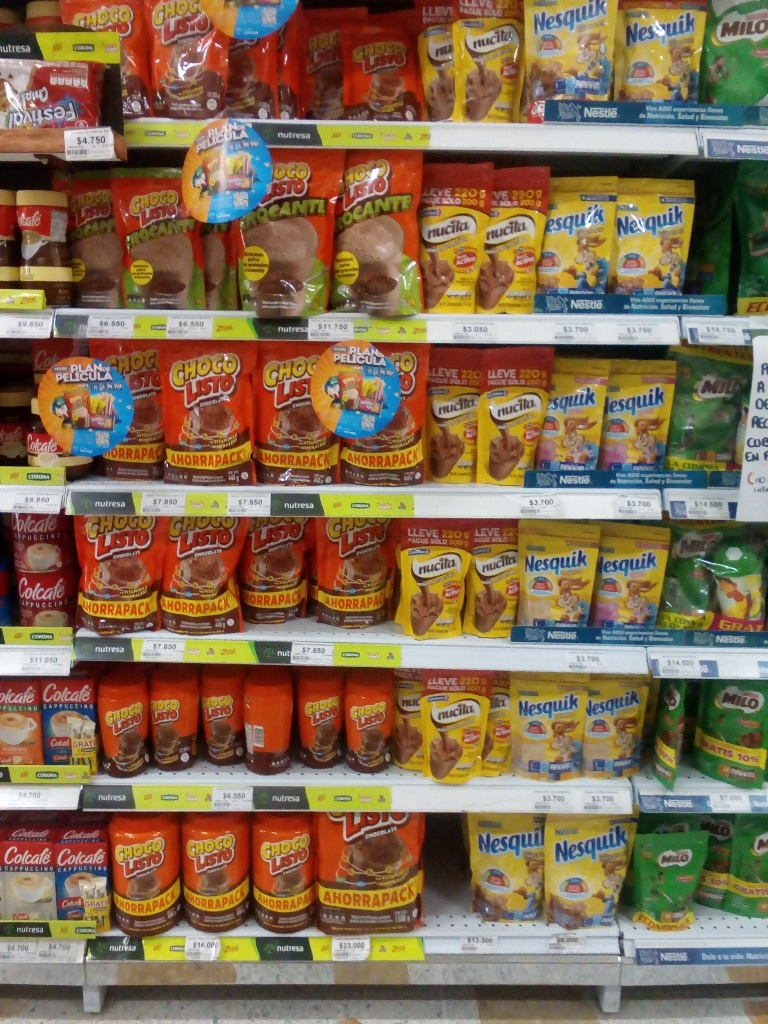COL0170102DYP25000: (110, 168, 208, 313)
COL0170102DYP50000: (237, 146, 337, 315)
COL0170103DYP1,500: (314, 808, 431, 936)
COL0170103DYP44000: (69, 509, 164, 631)
COL0170103TRR00100: (101, 809, 181, 934)
COL0170103TRR30000: (93, 671, 153, 784)
COL0170203DYP25000: (635, 832, 705, 940)
COL0170203DYP50000: (676, 353, 767, 468)
COL0170205DYP50000: (708, 3, 763, 107)
COL0170303DYP20000: (610, 172, 694, 306)
COL0170305DYP20000: (600, 520, 670, 640)
COL0170306DYP20000: (515, 514, 600, 645)
